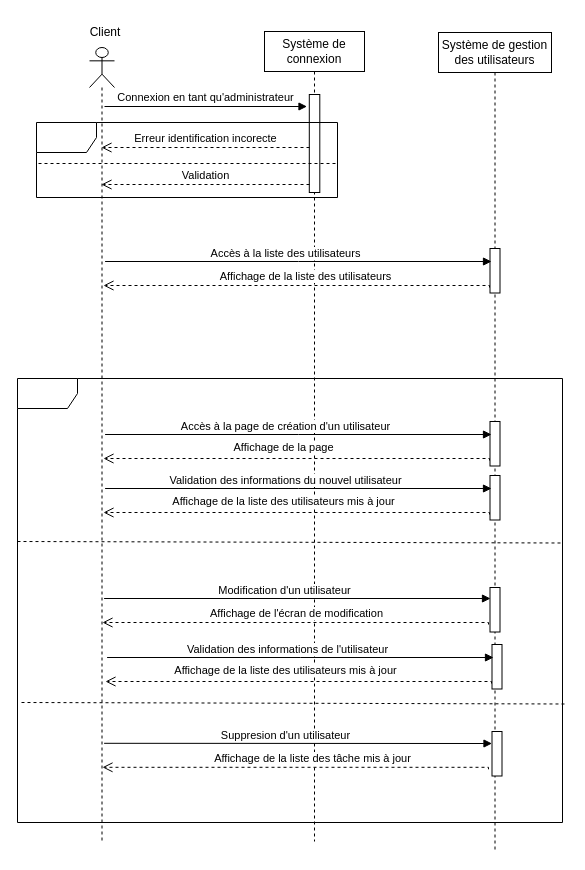
This 585x870 diagram has some shape labels left out. The shapes that lost their labels are listed below. From the top down, each one's centre as x and y in pixels, then its label:
(x=187, y=160): alt
(x=289, y=600): opt
